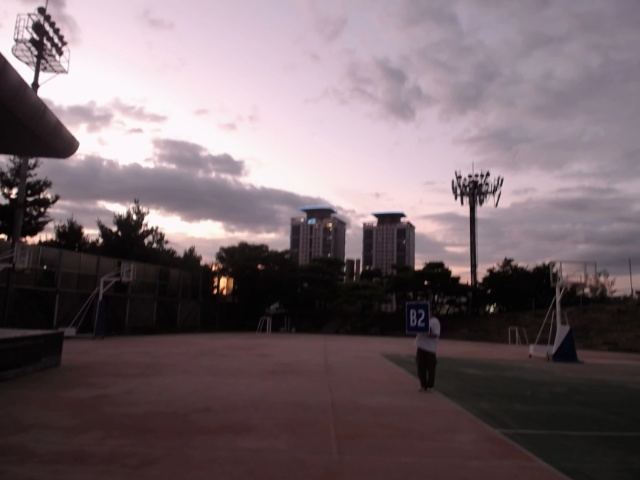delivery_b2: (404, 301, 431, 334)
